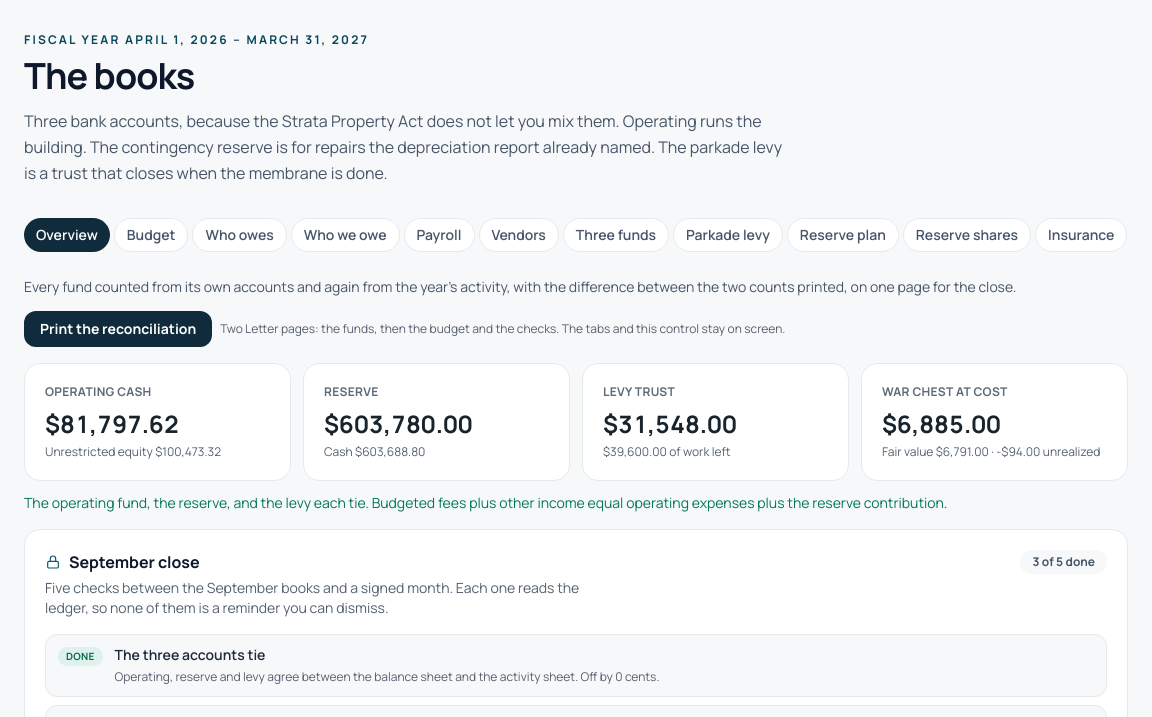
Test: /accounting budget › states each line’s variance in the direction the reader has to read
Step 1. Click the button "Budget" → (151, 235), box [114, 218, 188, 252]
(page scrolled)
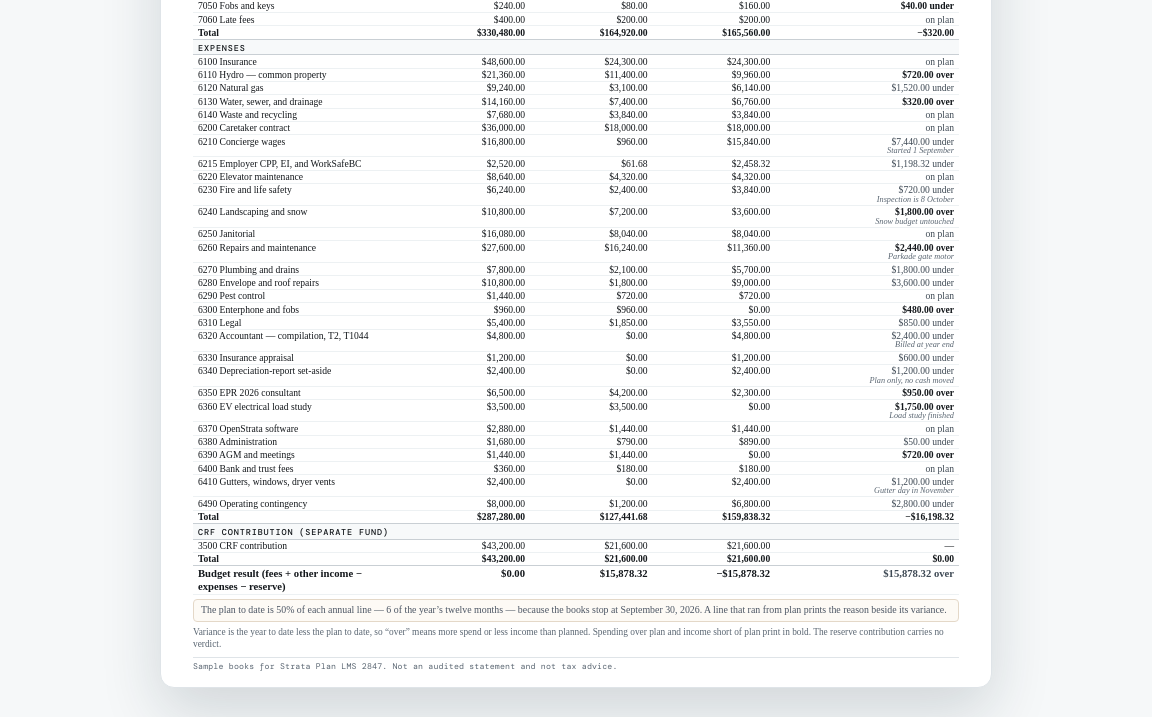
Result: the row "6100 Insurance $48,600.00 $24,300.00 $24,300.00 on plan" is shown at [193, 55, 959, 68]
Result: the row that starts with "6110 Hydro — common property" shows "$720.00 over" at [902, 69, 954, 80]
Result: the row that starts with "6210 Concierge wages" shows "$7,440.00 under" at [891, 136, 954, 147]
